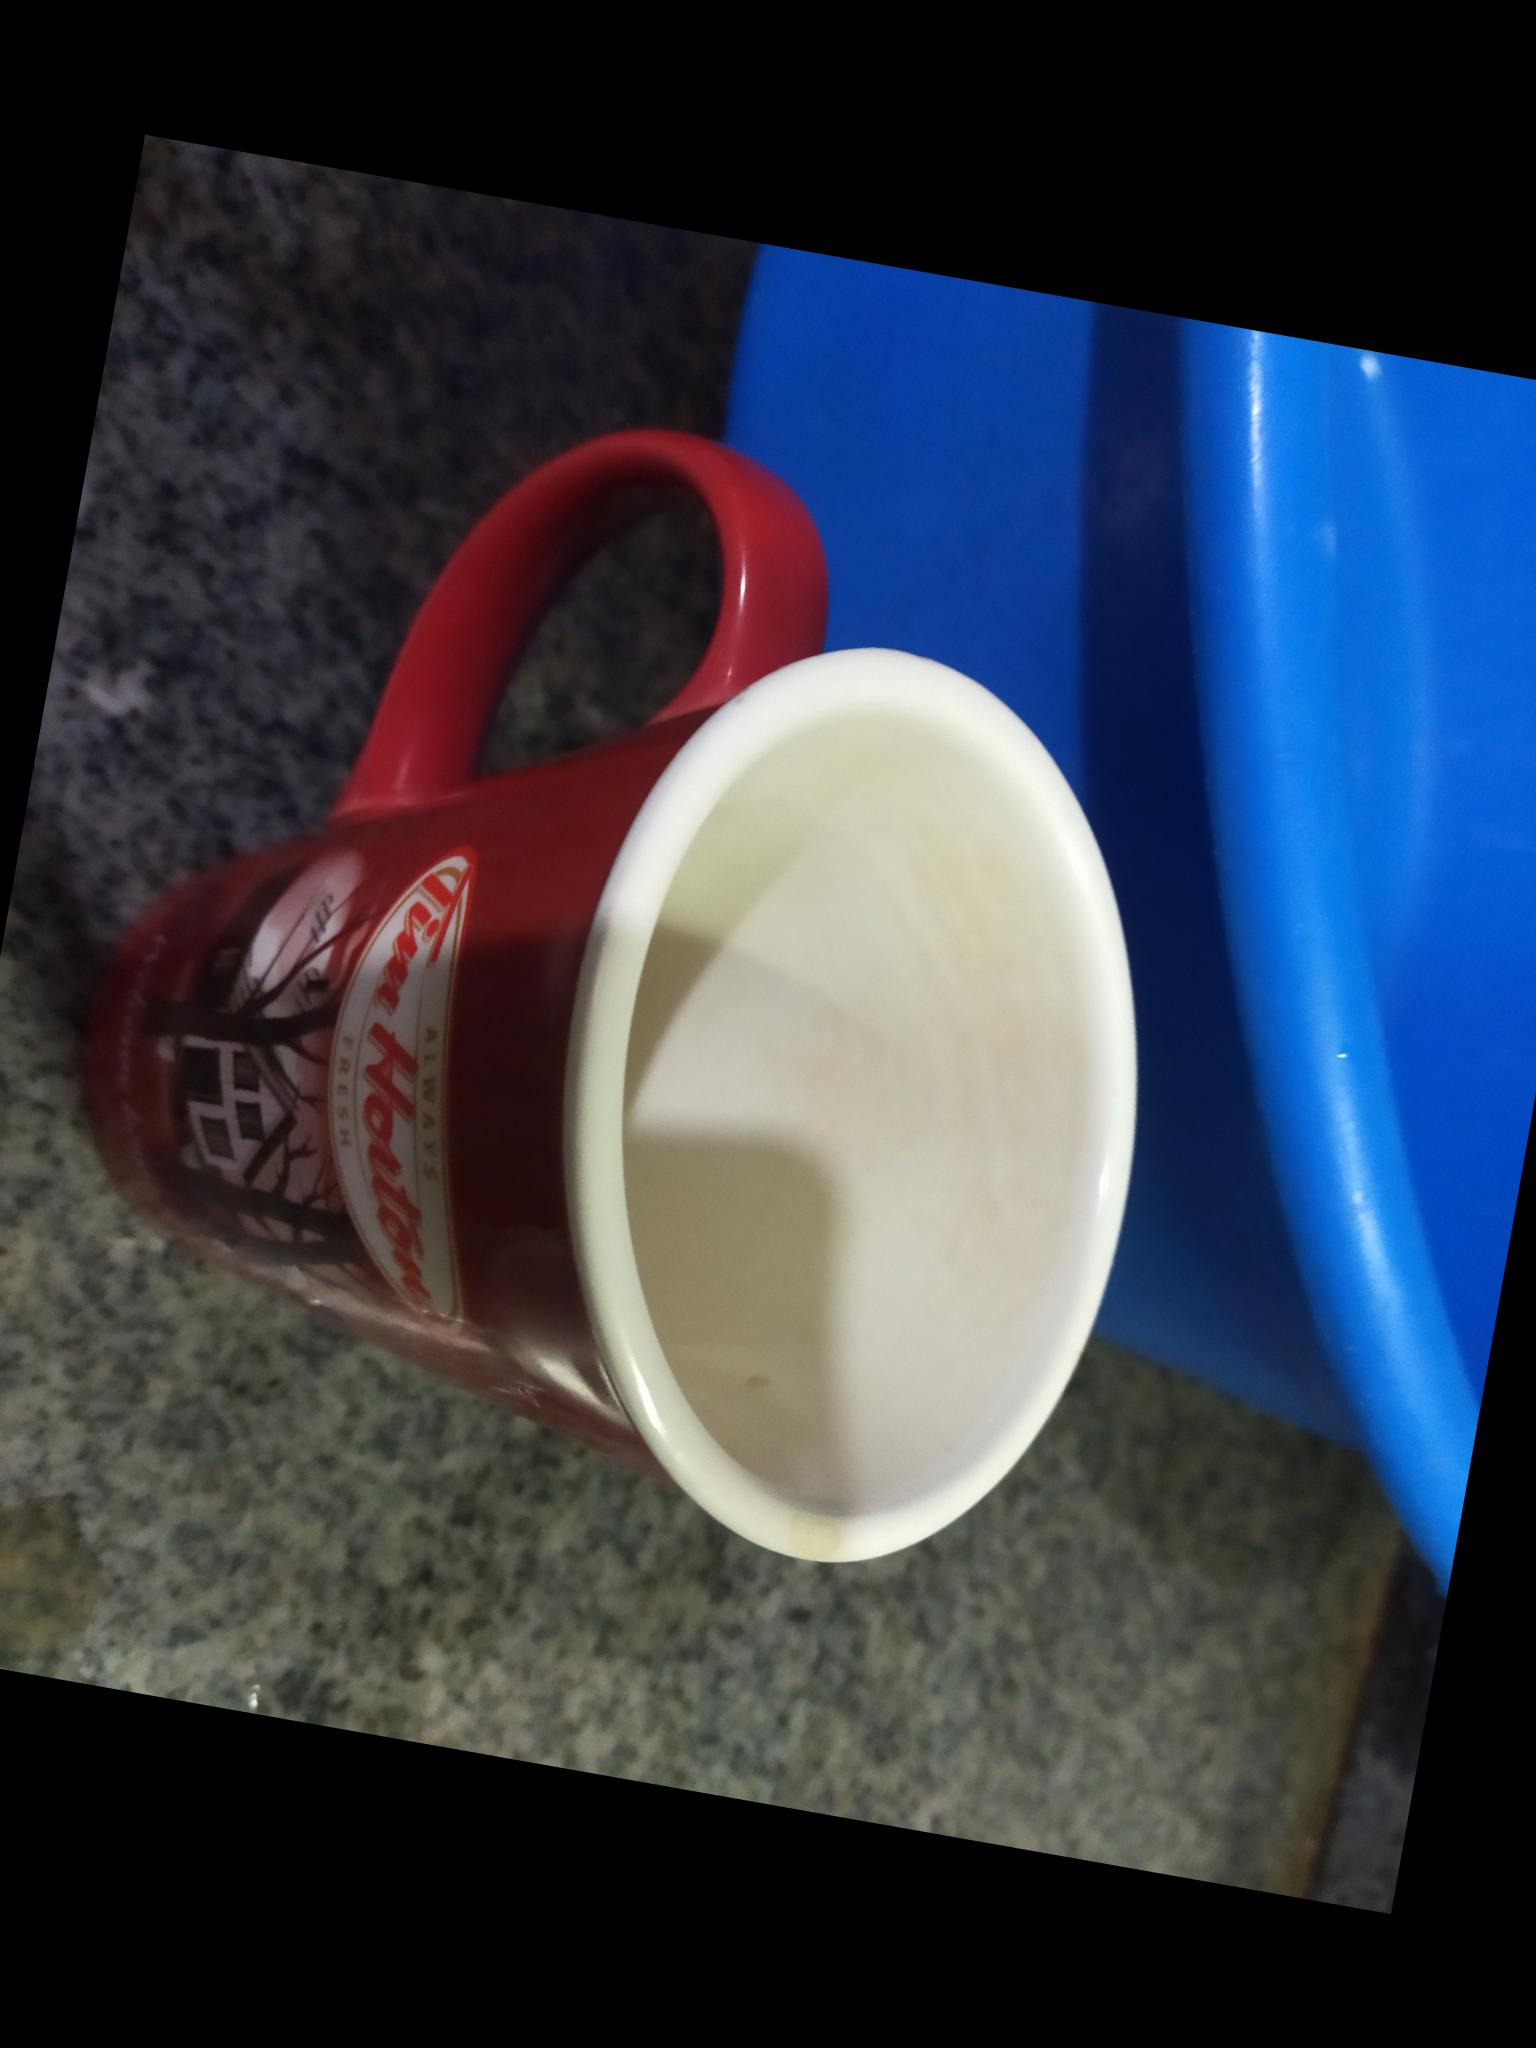Coffee Mug: (18, 348, 1239, 1593)
